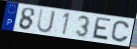1: (62, 13, 71, 37)
3: (75, 15, 92, 38)
8: (19, 7, 37, 31)
C: (110, 20, 131, 44)
E: (90, 16, 113, 42)
U: (36, 8, 57, 34)
